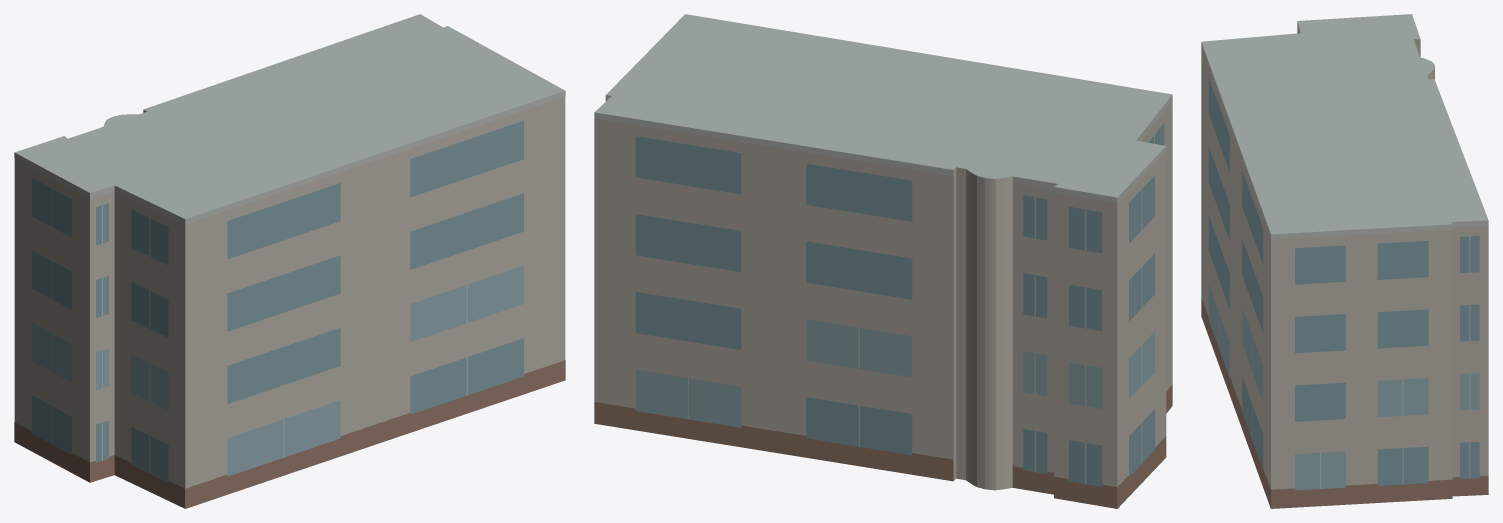
The model's file is survey-upis-32652755.glb.
3 views of the same model, side by side, from view 1: azimuth 30°, elevation 25°; view 2: azimuth 150°, elevation 25°; view 3: azimuth 270°, elevation 25° (orthographic). The views are drawn at different scales.
Visible parts, largest first — view 1: survey-upis-32652755.tmp; view 2: survey-upis-32652755.tmp; view 3: survey-upis-32652755.tmp.
Boxes of the visible parts, <box> form: survey-upis-32652755.tmp: <box>14,14,565,508</box>; survey-upis-32652755.tmp: <box>594,14,1172,508</box>; survey-upis-32652755.tmp: <box>1201,14,1488,508</box>.
Size of the model in its own units: 22.05 by 12.8 by 12.15.
